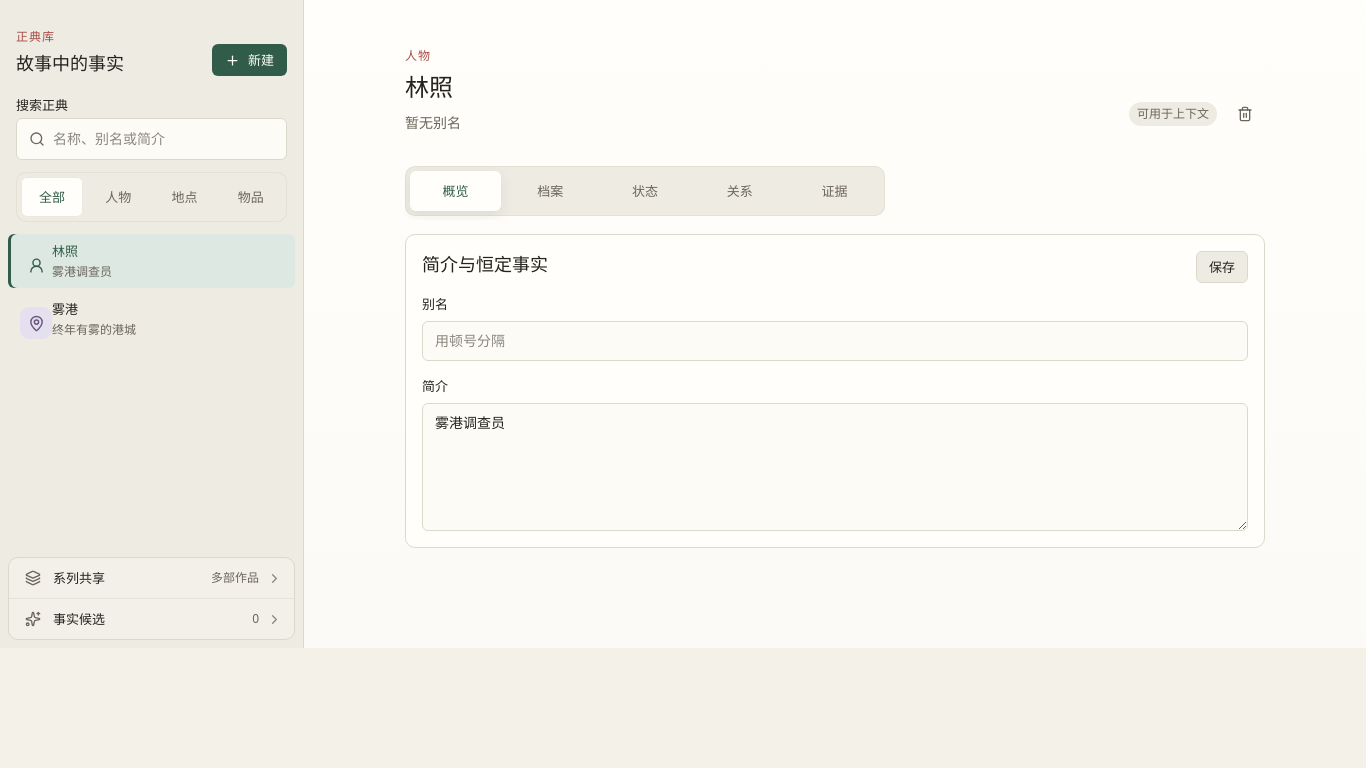
CanonWorkspace library template › keeps search, filtering and detail selection in one library structure
Expected: the element named "正典导航" is shown, [0,0,304,648]
Expected: the heading "林照" is shown, [405,72,453,104]
Step 1. Click the tab "地点" → (185, 197), box [154,177,216,217]
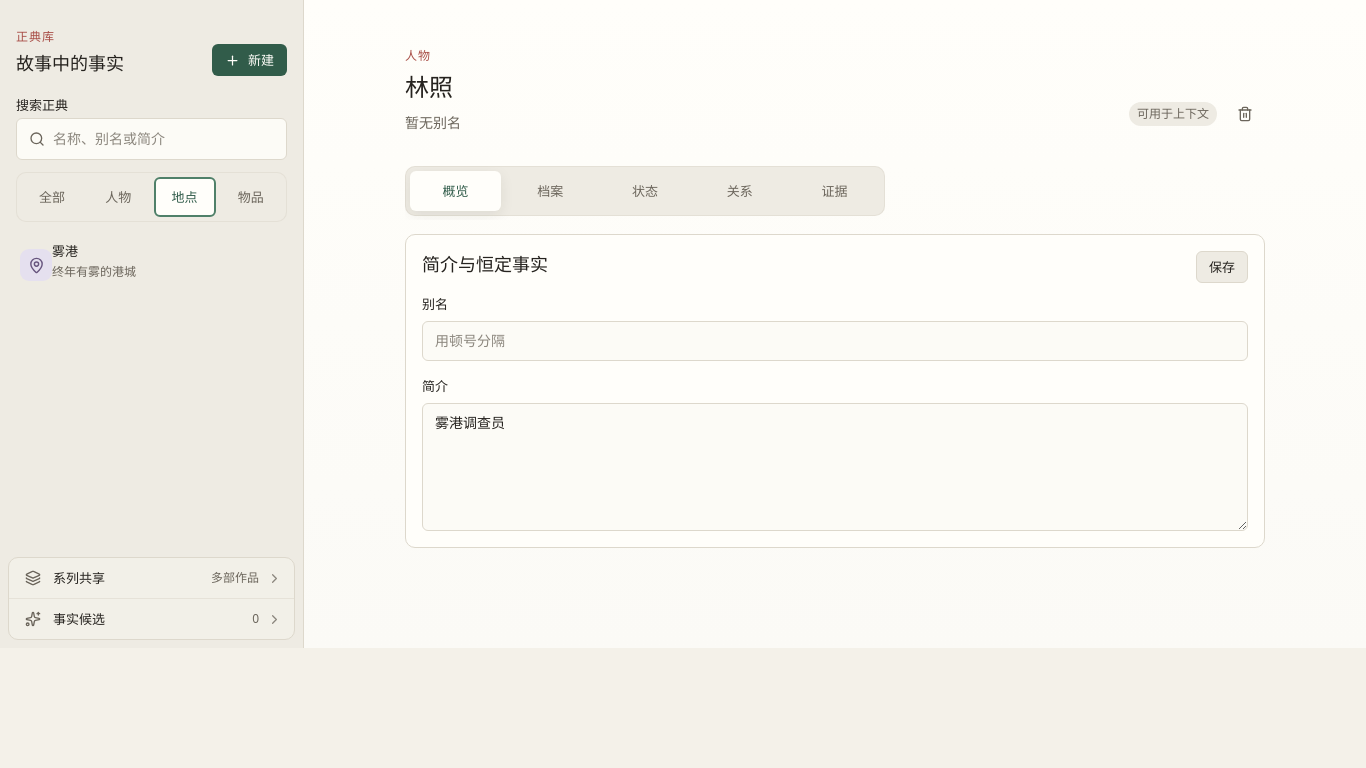
Step 2. Click the button "雾港 终年有雾的港城" → (36, 265), box [8,234,295,288]
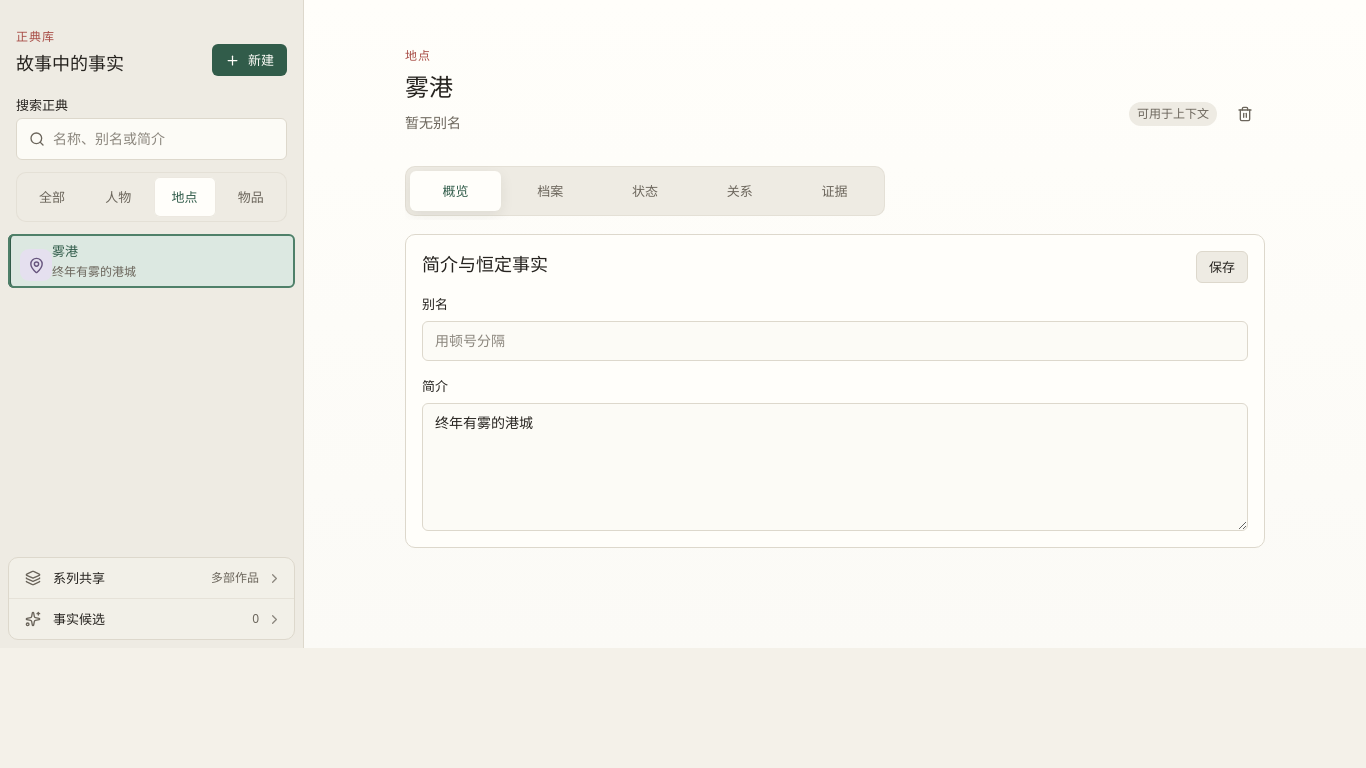
Now the heading "雾港" is shown, box [405,72,453,104]
Step 3. Type "不存在" into the search field labelled "搜索正典" → (166, 139), box [53,119,278,159]
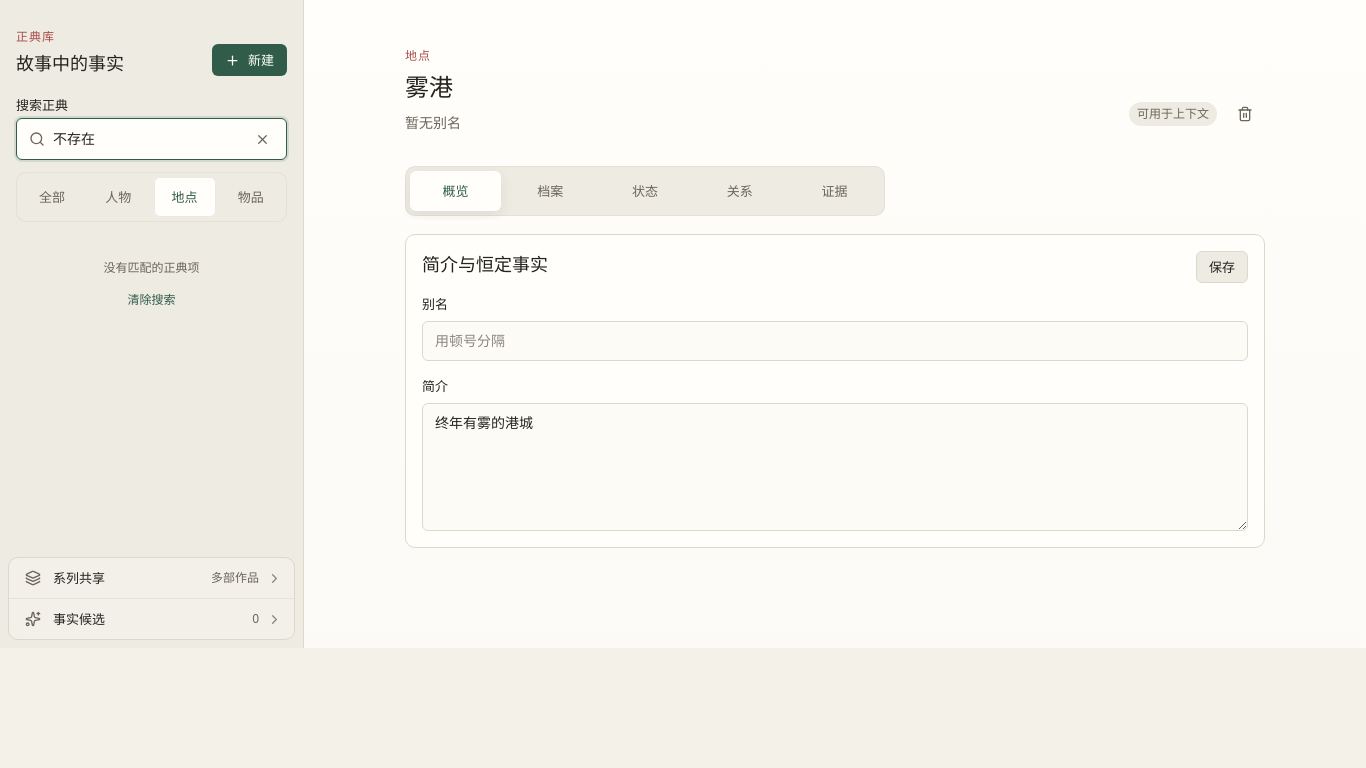
Now the message shows "没有匹配的正典项", box [104,259,200,276]
Step 4. Click the button "清除搜索" → (152, 300), box [120,284,184,316]
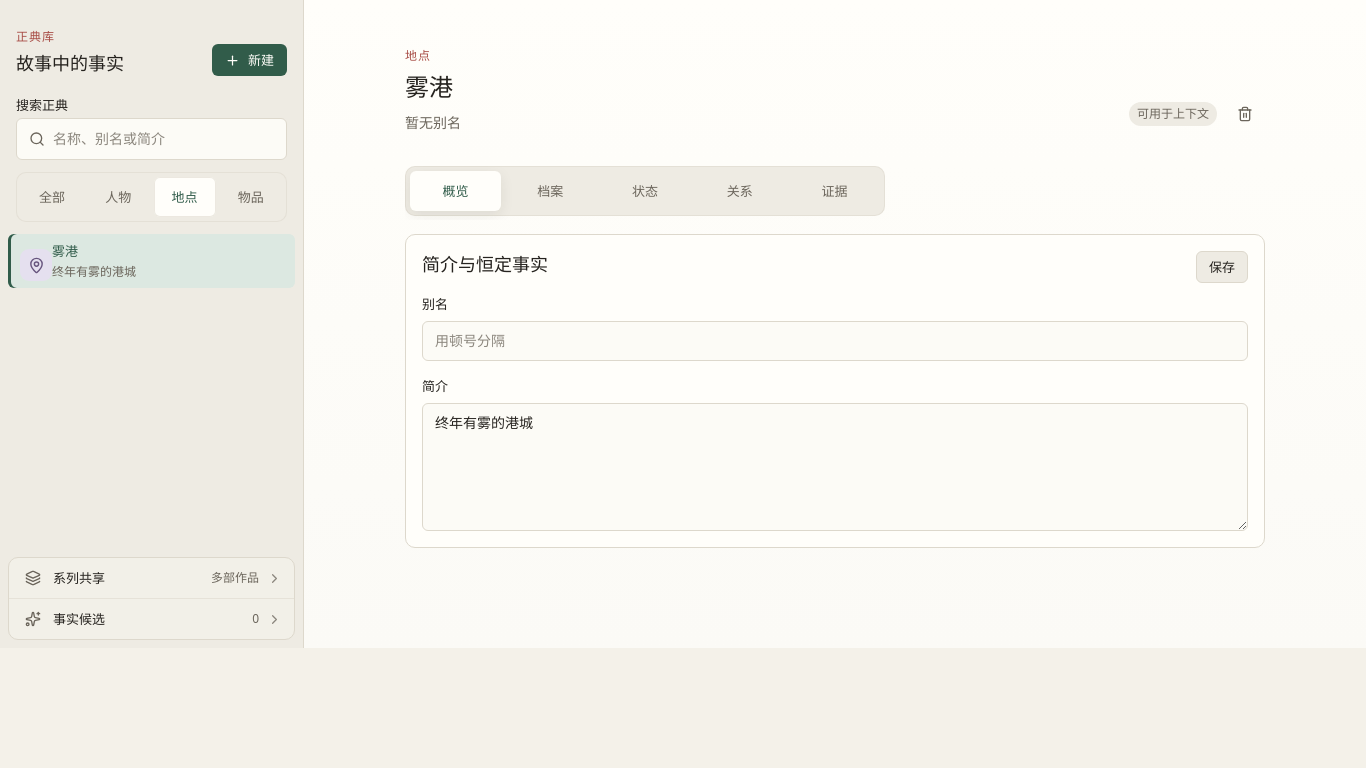
Expected: the navigation bar named "正典扩展功能" is shown, [8,557,295,640]
Now the button "雾港 终年有雾的港城" is shown, box [8,234,295,288]
